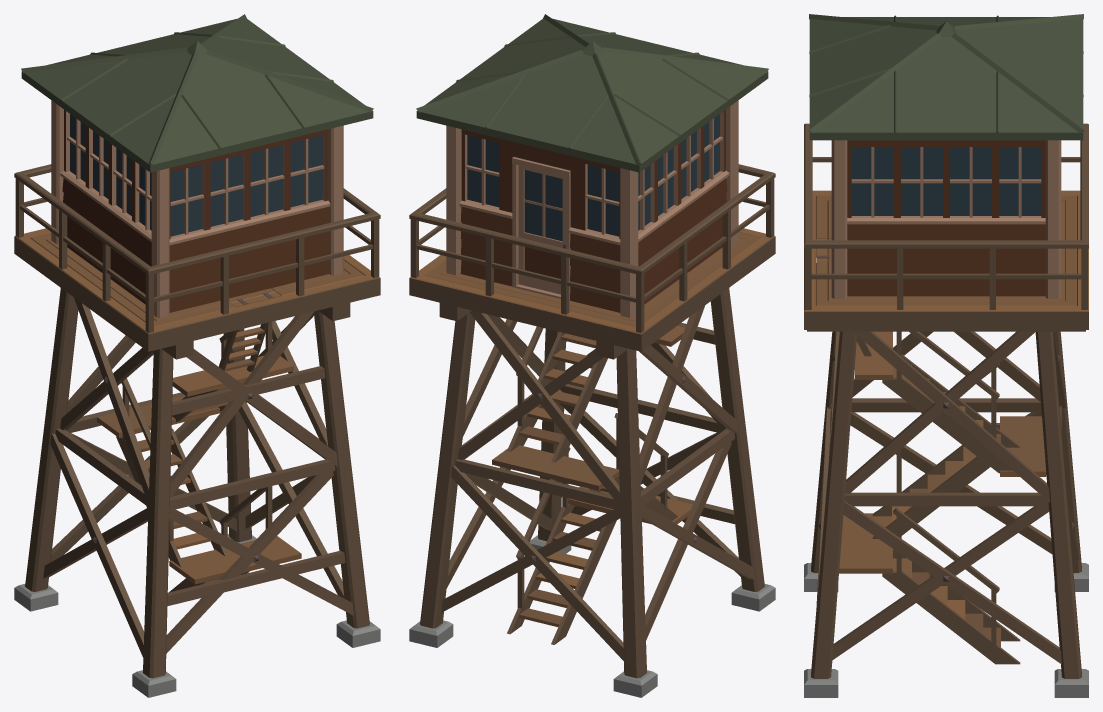
The model's file is splay-leg-lookout-tower-6fae7e.glb.
3 renders of one model, left to right at view 1: azimuth 30°, elevation 25°; view 2: azimuth 150°, elevation 25°; view 3: azimuth 270°, elevation 25°, orthographic. The views are drawn at different scales.
Parts seen in each view (by area): view 1: tower; view 2: tower, cab-door-leaf; view 3: tower.
Boxes of the visible parts, box(x1,y1,x2,y2) form: tower: box(14, 14, 380, 697); tower: box(409, 14, 775, 697); cab-door-leaf: box(518, 165, 565, 294); tower: box(804, 14, 1088, 697).
Size of the model in its own units: 4 by 9.55 by 4.
